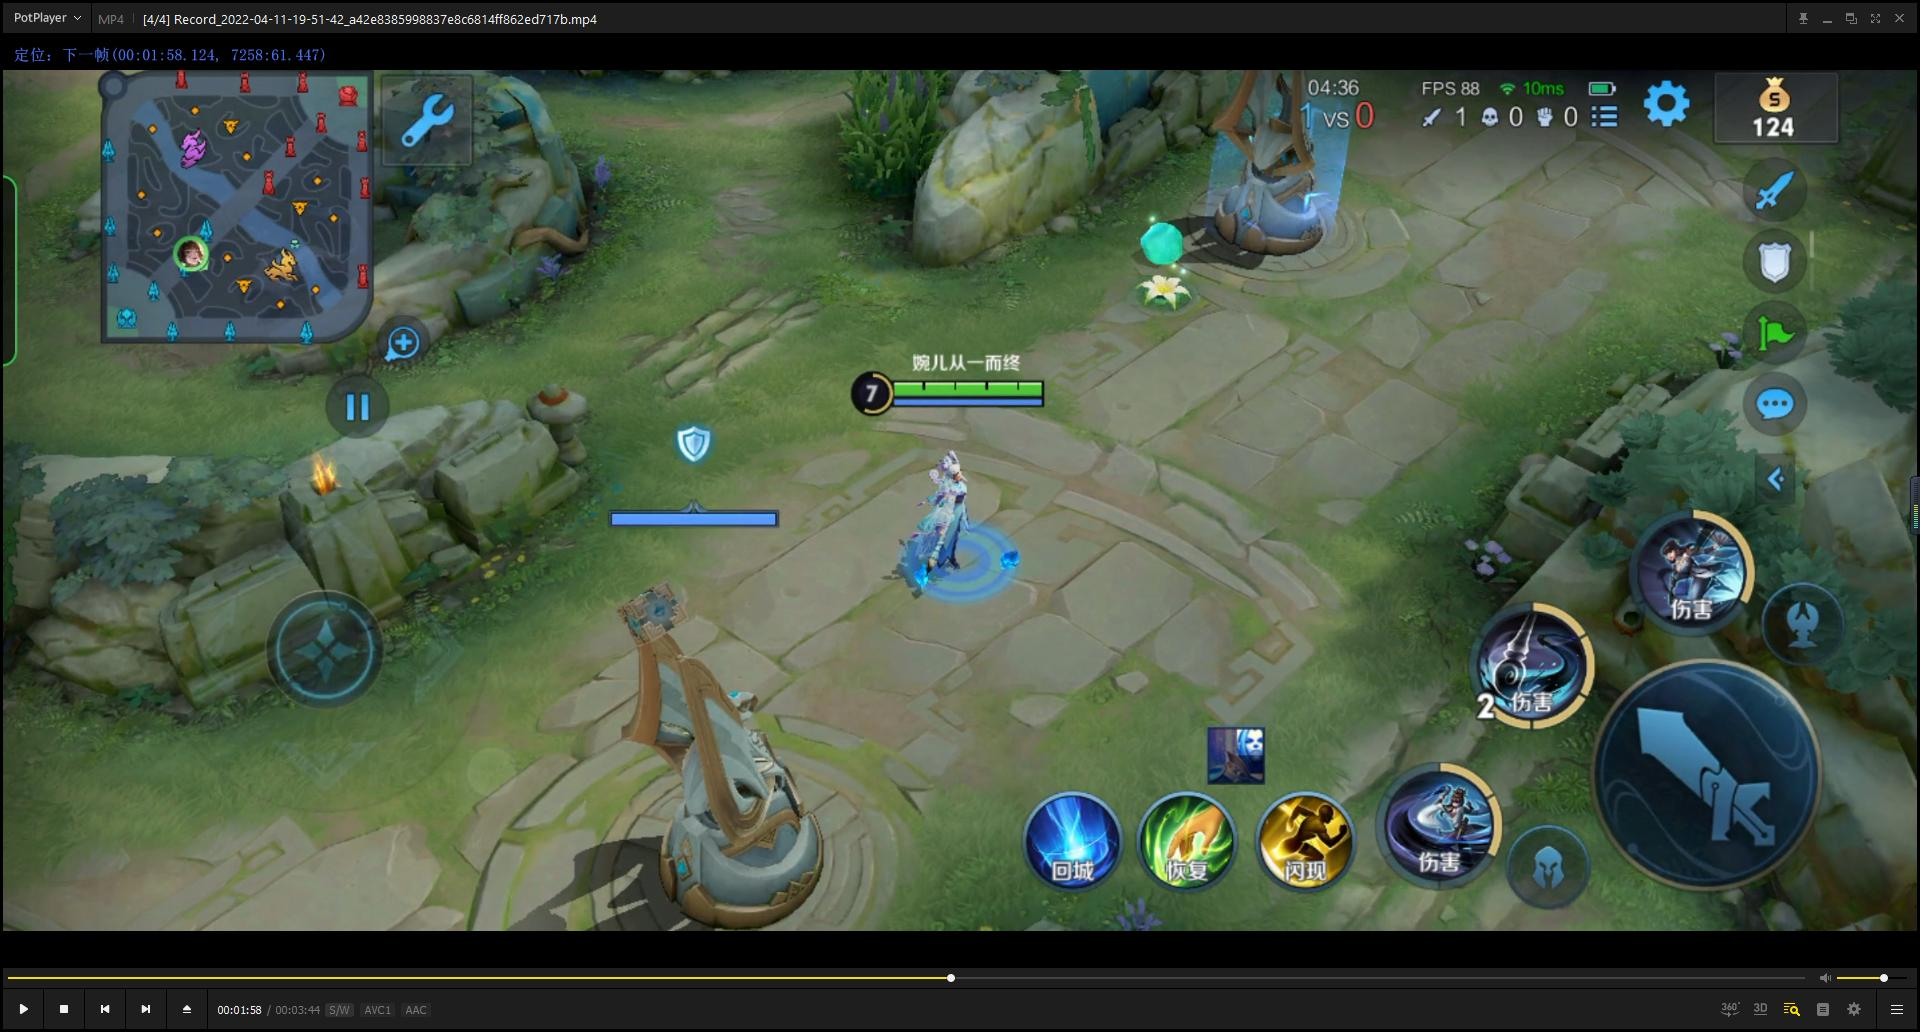Hero: (872, 436, 1033, 623)
Tower: (558, 466, 869, 928), (1173, 71, 1383, 277)
